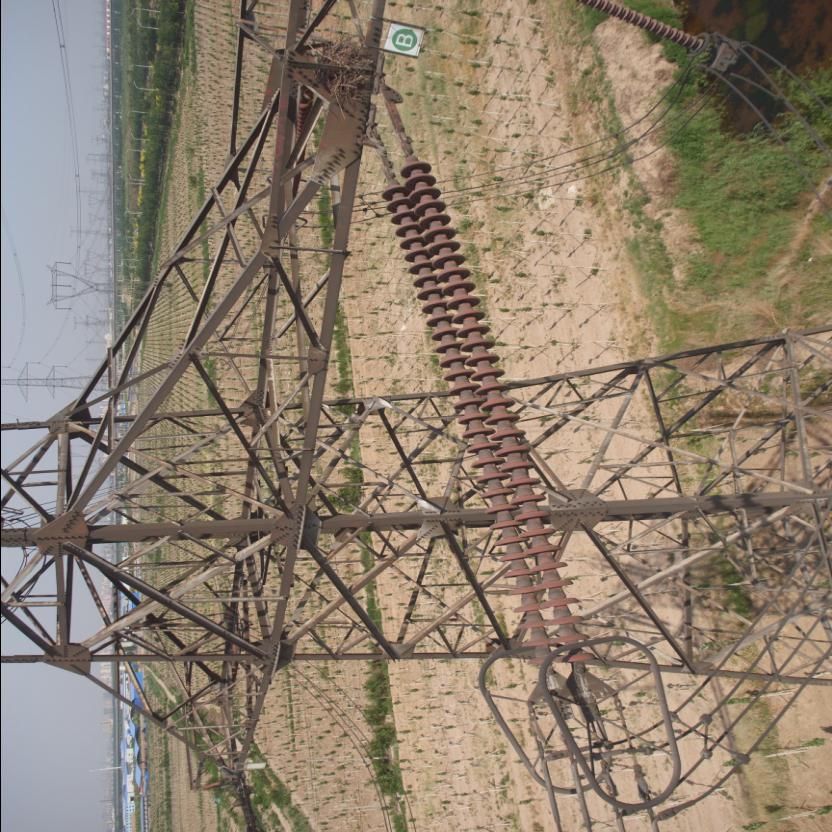insulator: (373, 138, 599, 688)
